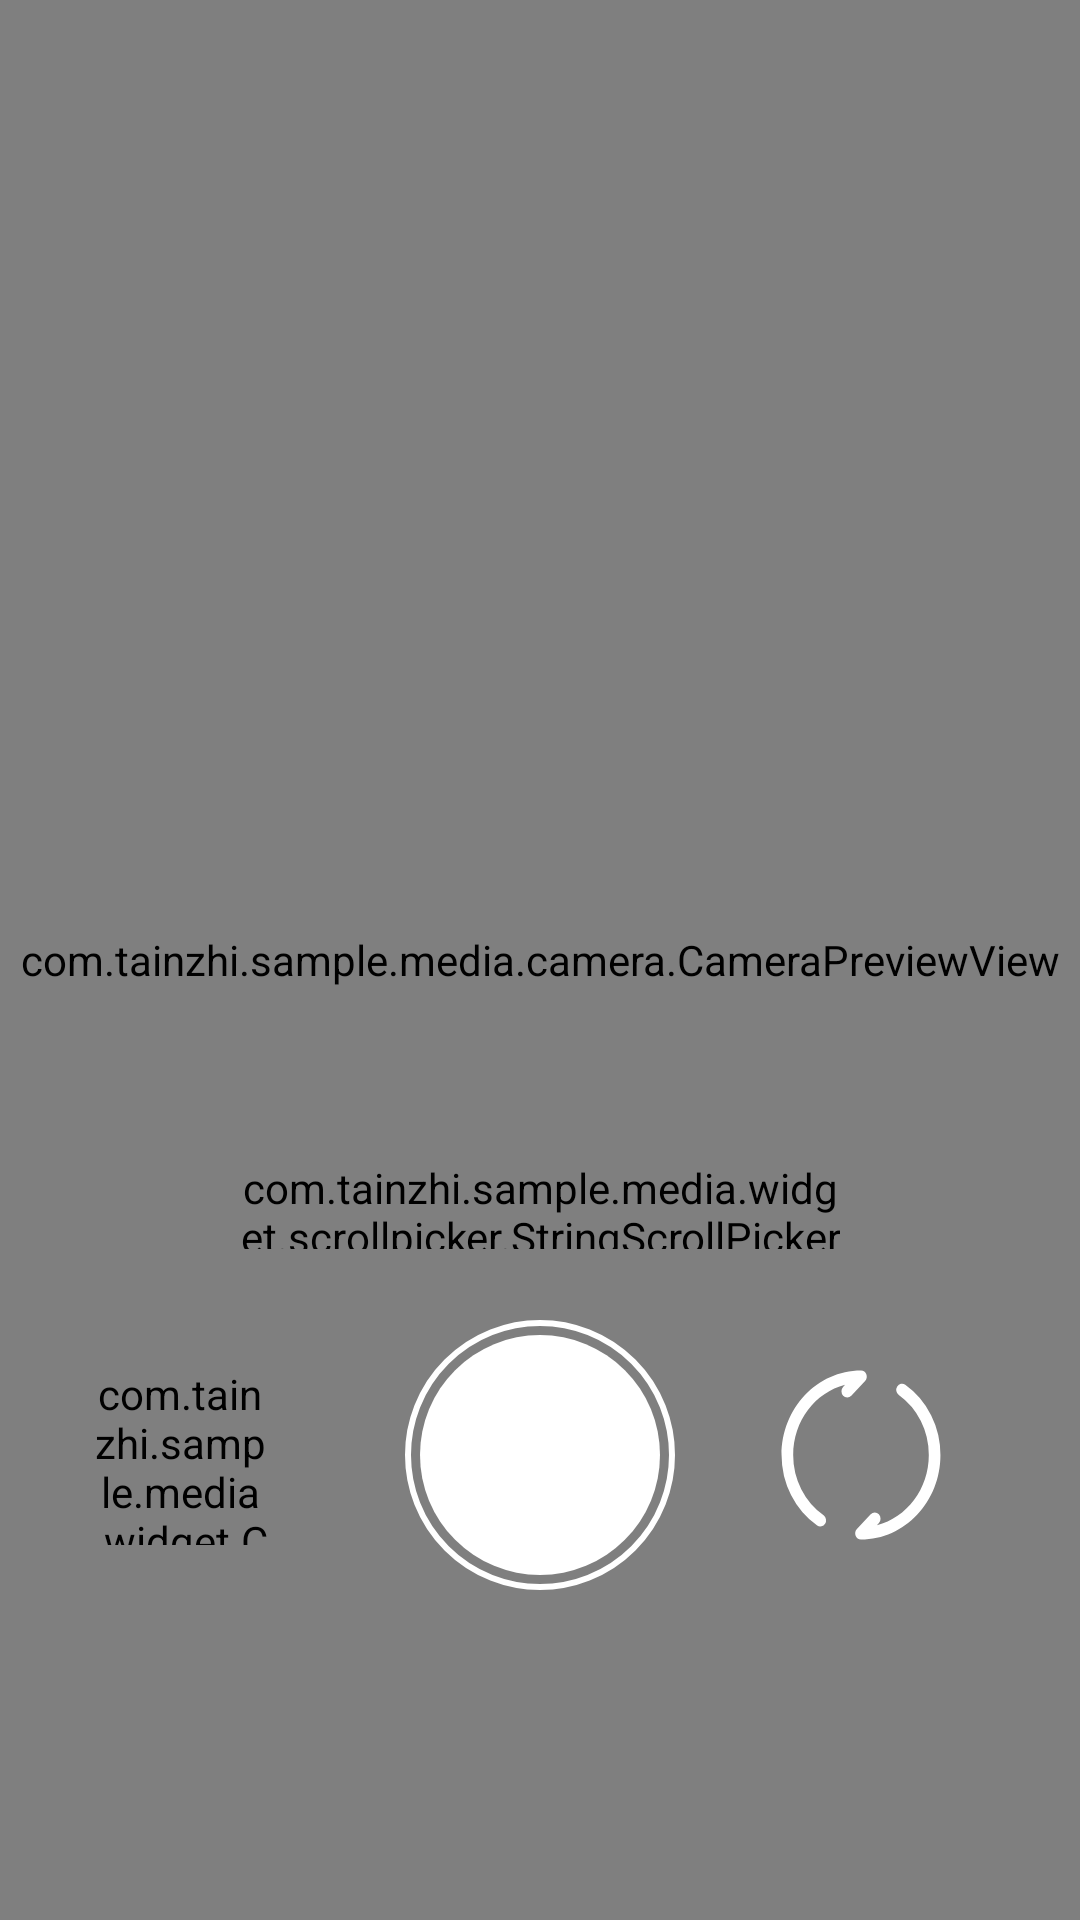

Icons on this 1080w x 1920h Android screen, each with its box as box=[x1, y1, x2, y2]:
flip camera: box=[781, 1370, 941, 1540]
take picture: box=[405, 1320, 675, 1590]
